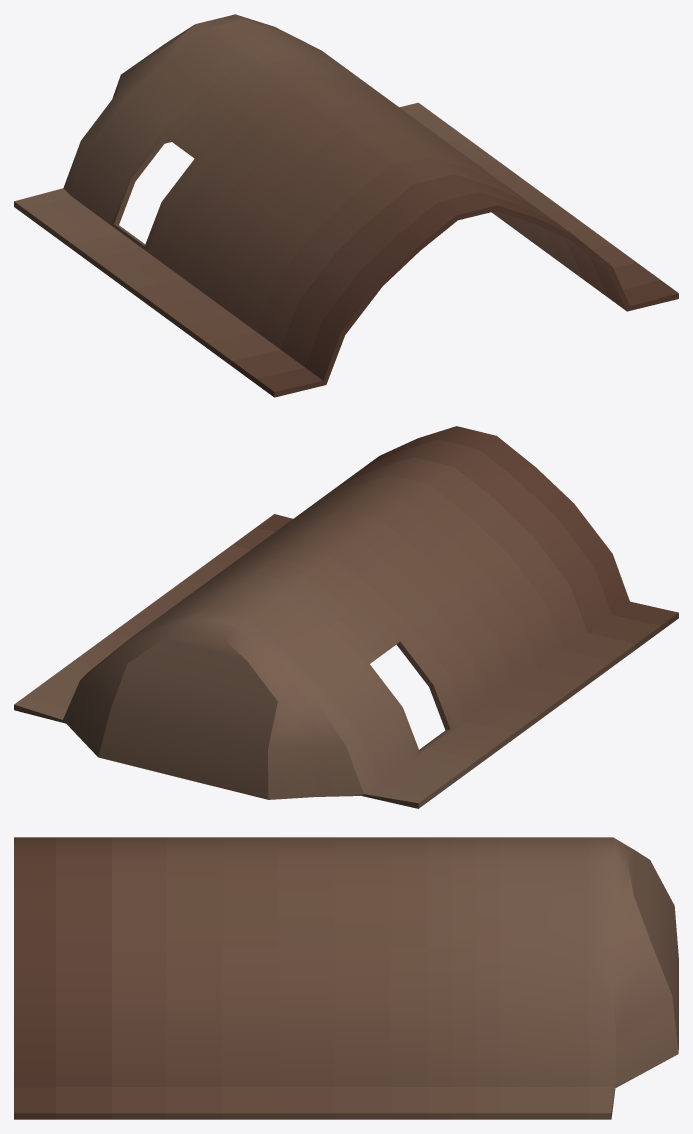
File: Roof.fbx
3 renders of one model, top to bottom at view 1: azimuth 30°, elevation 25°; view 2: azimuth 150°, elevation 25°; view 3: azimuth 270°, elevation 25°, orthographic. The views are drawn at different scales.
Parts seen in each view (by area): view 1: Roof; view 2: Roof; view 3: Roof.
Boxes of the visible parts, left/top/right/bottom form: Roof: left=14, top=14, right=678, bottom=397; Roof: left=14, top=426, right=678, bottom=808; Roof: left=14, top=837, right=678, bottom=1119.
Size of the model in its own units: 752 by 245 by 933.
Materials: 1 (1 with a texture image).
